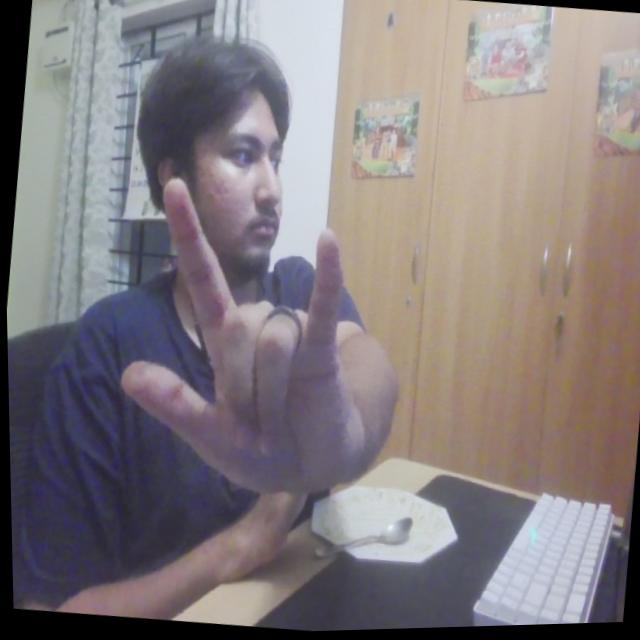iloveyou: (99, 165, 391, 518)
